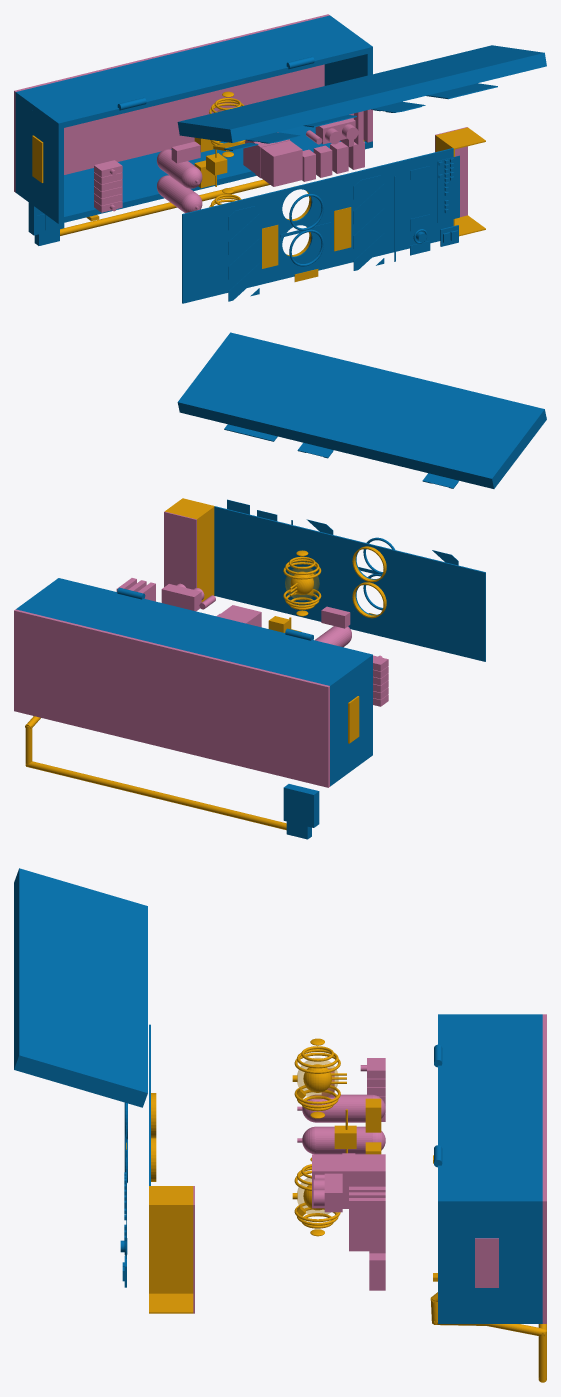
File: c204_A_eclate.obj
3 views of the same model, one above another, from view 1: azimuth 30°, elevation 25°; view 2: azimuth 150°, elevation 25°; view 3: azimuth 270°, elevation 25° (orthographic). The views are drawn at different scales.
Parts seen in each view (by area): view 1: A-003_Corps___paroi_arrière, A-001_Corps___fond, A-012_Couvercle___dessus, A-002_Corps___paroi_avant, A-004_Corps___paroi_d_extrémité_gauche, A-013_Couvercle___rebord_avant, A-063_Panneau_5___fond_blanc, A-161_Générateur_d_électrons__6____boîtier, A-036_Platine___bande_de_danger_n_1__fond_, A-034_Platine___zone_tramée_gauche__a_, A-052_Platine___cadre_des_deux_logements, A-035_Platine___zone_tramée_gauche__b_ (+34 smaller); view 2: A-001_Corps___fond, A-012_Couvercle___dessus, A-003_Corps___paroi_arrière, A-004_Corps___paroi_d_extrémité_gauche, A-036_Platine___bande_de_danger_n_1__fond_, A-014_Couvercle___rebord_arrière, A-063_Panneau_5___fond_blanc, A-069_Panneau_8_6___fond, A-092_Rangement_9___fond, A-048_Platine___zone_tramée_centre_gauche, A-104_Cordon_spiralé___tronçon_1, A-052_Platine___cadre_des_deux_logements (+10 smaller); view 3: A-012_Couvercle___dessus, A-003_Corps___paroi_arrière, A-005_Corps___paroi_d_extrémité_droite, A-093_Rangement_9___cloison_gauche, A-173_Calculateur_n_3__volume_générique_, A-161_Générateur_d_électrons__6____boîtier, A-016_Couvercle___rebord_droit, A-001_Corps___fond, A-009_Poignée_encastrée_d_extrémité_droite, A-156_Réservoir_de_refroidissement__10__n_2___virole, A-111_Enveloppe_de_refroidissement__8____principale, A-013_Couvercle___rebord_avant (+7 smaller).
Part boxes in pixels (bbox=[...]): A-003_Corps___paroi_arrière: bbox=[15, 15, 372, 129]; A-001_Corps___fond: bbox=[14, 14, 329, 192]; A-012_Couvercle___dessus: bbox=[177, 45, 544, 131]; A-002_Corps___paroi_avant: bbox=[15, 126, 372, 223]; A-004_Corps___paroi_d_extrémité_gauche: bbox=[15, 98, 63, 218]; A-013_Couvercle___rebord_avant: bbox=[228, 55, 546, 142]; A-063_Panneau_5___fond_blanc: bbox=[396, 155, 425, 251]; A-161_Générateur_d_électrons__6____boîtier: bbox=[243, 132, 302, 186]; A-036_Platine___bande_de_danger_n_1__fond_: bbox=[219, 197, 250, 294]; A-034_Platine___zone_tramée_gauche__a_: bbox=[182, 209, 201, 303]; A-052_Platine___cadre_des_deux_logements: bbox=[271, 183, 322, 261]; A-035_Platine___zone_tramée_gauche__b_: bbox=[201, 205, 219, 298]; A-001_Corps___fond: bbox=[14, 609, 329, 787]; A-012_Couvercle___dessus: bbox=[177, 332, 544, 480]; A-003_Corps___paroi_arrière: bbox=[16, 578, 372, 691]; A-004_Corps___paroi_d_extrémité_gauche: bbox=[330, 660, 372, 780]; A-036_Platine___bande_de_danger_n_1__fond_: bbox=[417, 556, 448, 652]; A-014_Couvercle___rebord_arrière: bbox=[178, 404, 496, 488]; A-063_Panneau_5___fond_blanc: bbox=[242, 513, 270, 609]; A-069_Panneau_8_6___fond: bbox=[214, 506, 242, 602]; A-092_Rangement_9___fond: bbox=[164, 511, 196, 589]; A-048_Platine___zone_tramée_centre_gauche: bbox=[396, 550, 418, 645]; A-104_Cordon_spiralé___tronçon_1: bbox=[25, 761, 286, 830]; A-052_Platine___cadre_des_deux_logements: bbox=[345, 541, 396, 621]; A-012_Couvercle___dessus: bbox=[18, 868, 147, 1095]; A-003_Corps___paroi_arrière: bbox=[438, 1014, 542, 1208]; A-005_Corps___paroi_d_extrémité_droite: bbox=[438, 1208, 542, 1316]; A-093_Rangement_9___cloison_gauche: bbox=[149, 1186, 193, 1293]; A-173_Calculateur_n_3__volume_générique_: bbox=[349, 1198, 385, 1251]; A-161_Générateur_d_électrons__6____boîtier: bbox=[312, 1154, 385, 1208]; A-016_Couvercle___rebord_droit: bbox=[21, 1060, 139, 1105]; A-001_Corps___fond: bbox=[542, 1014, 546, 1323]; A-009_Poignée_encastrée_d_extrémité_droite: bbox=[475, 1238, 498, 1287]; A-156_Réservoir_de_refroidissement__10__n_2___virole: bbox=[316, 1094, 371, 1122]; A-111_Enveloppe_de_refroidissement__8____principale: bbox=[297, 1058, 338, 1099]; A-013_Couvercle___rebord_avant: bbox=[14, 871, 25, 1071].
Size of the model in its own units: 0.858 by 0.7156 by 1.02.
